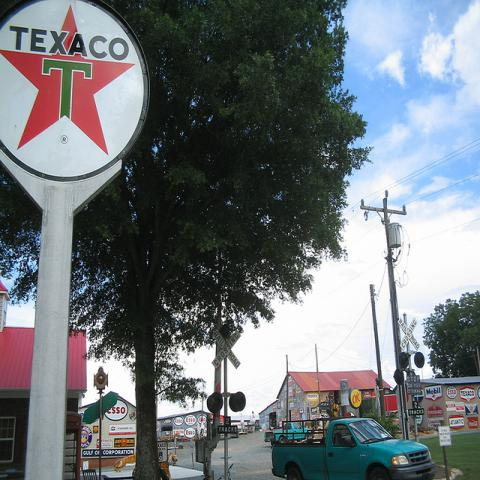truck: (268, 415, 438, 479)
